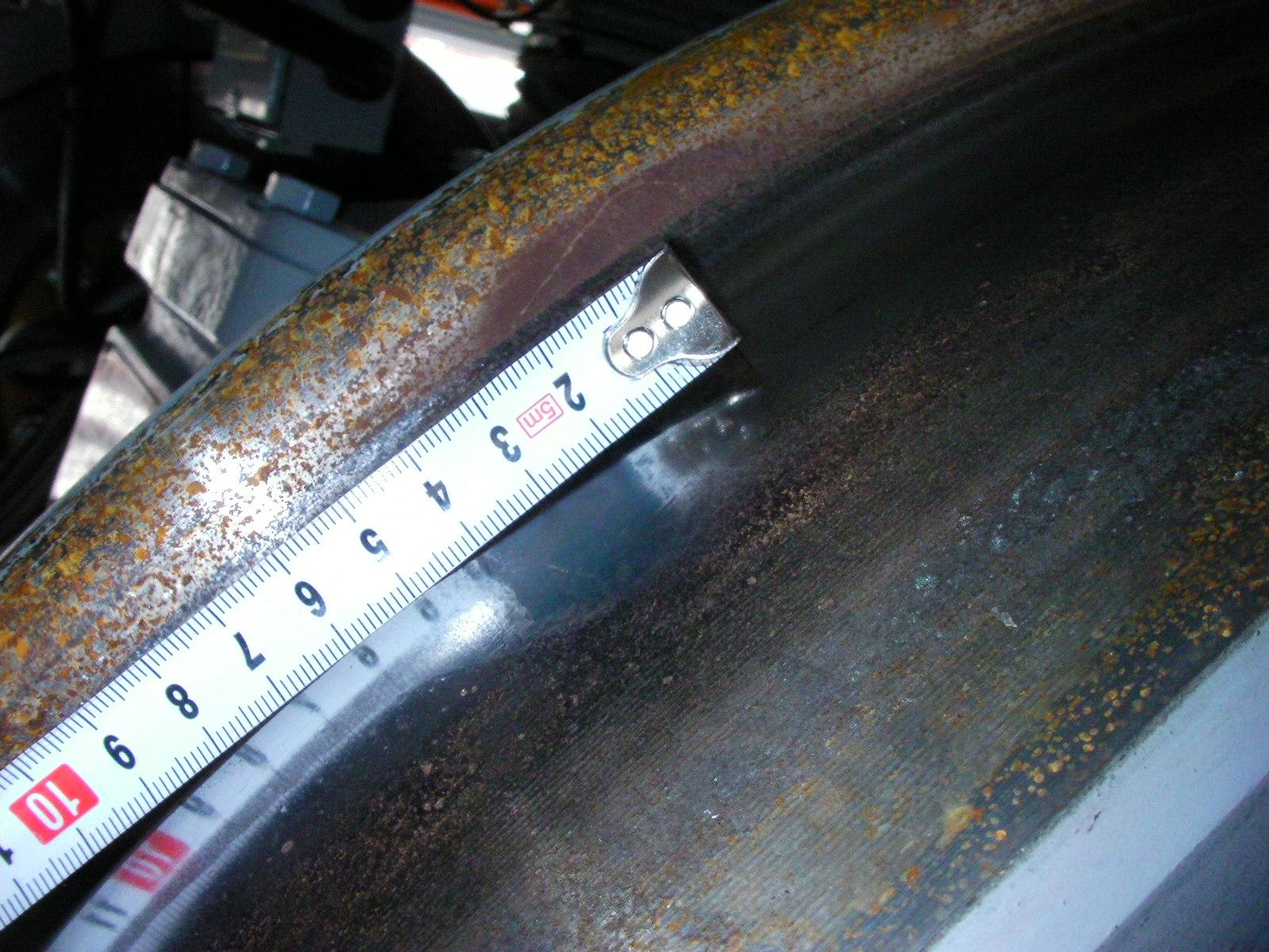Shelling: (482, 370, 743, 619)
